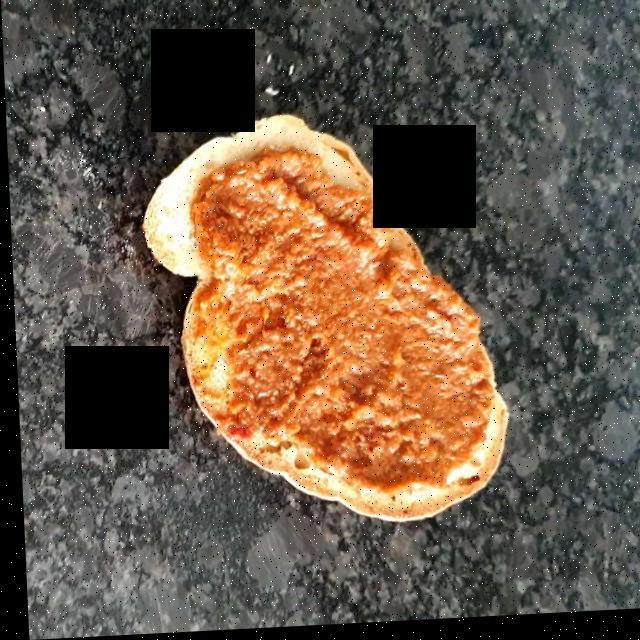bread: (144, 123, 494, 518)
